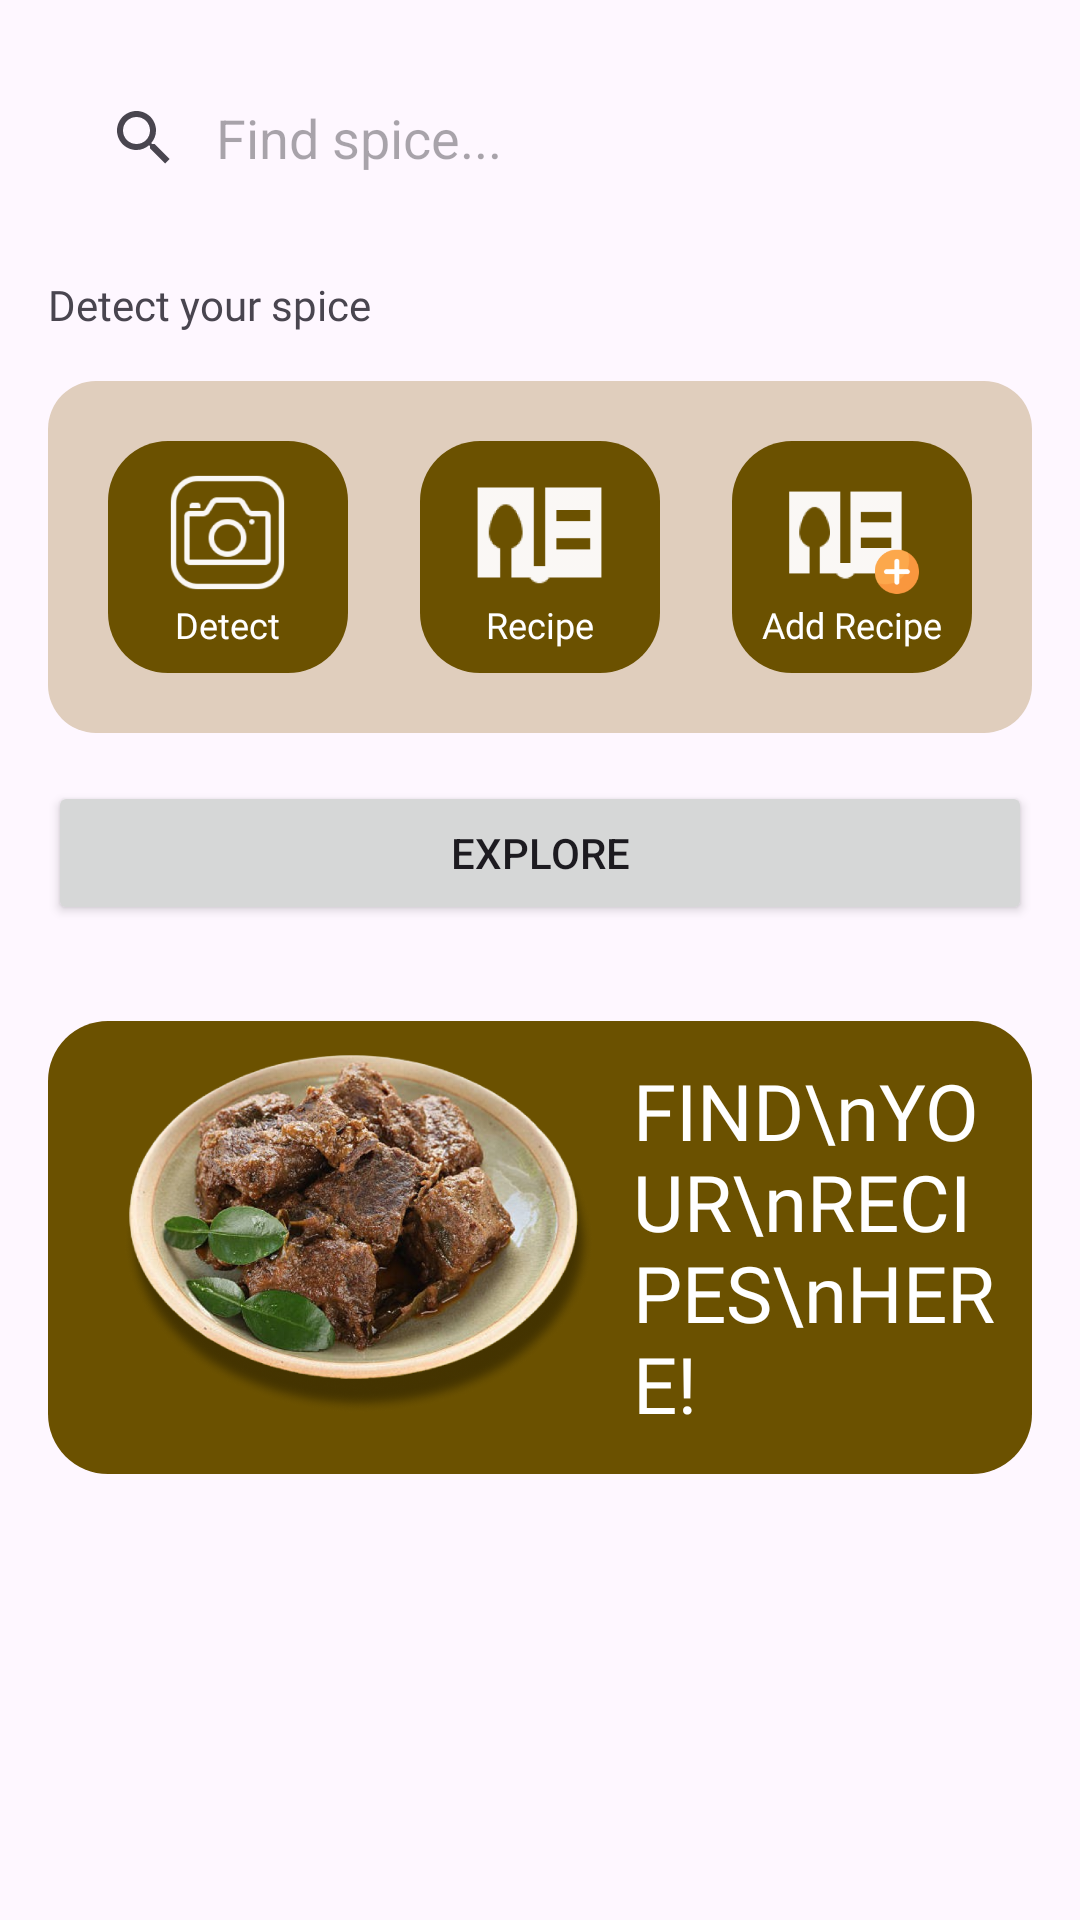

Point at icon controls on the screen. Image size 1080 x 1920, points as (x,y).
camera scan: (227,532)
